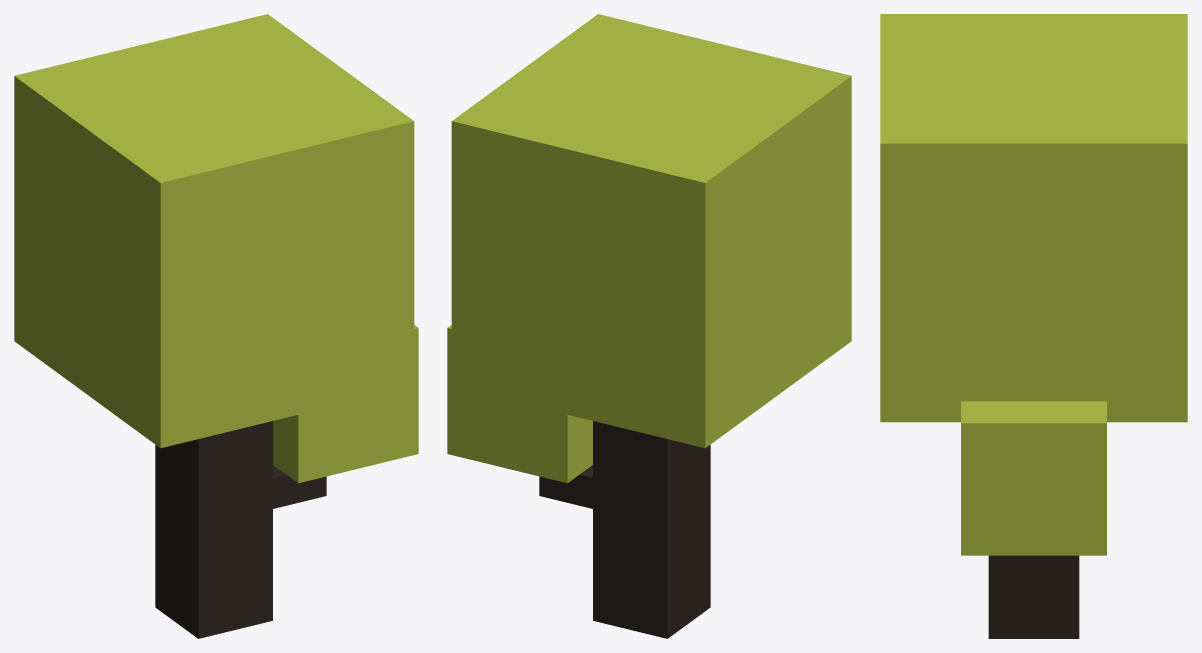
The model's file is tree_3.fbx.
3 renders of one model, left to right at view 1: azimuth 30°, elevation 25°; view 2: azimuth 150°, elevation 25°; view 3: azimuth 270°, elevation 25°, orthographic. The views are drawn at different scales.
Parts seen in each view (by area): view 1: Tree_3; view 2: Tree_3; view 3: Tree_3.
Part boxes in pixels (left/top/right/bottom): Tree_3: left=14, top=14, right=418, bottom=638; Tree_3: left=447, top=14, right=851, bottom=638; Tree_3: left=880, top=14, right=1187, bottom=638.
Bounding box in the file's own units: 481 × 798 × 411.
